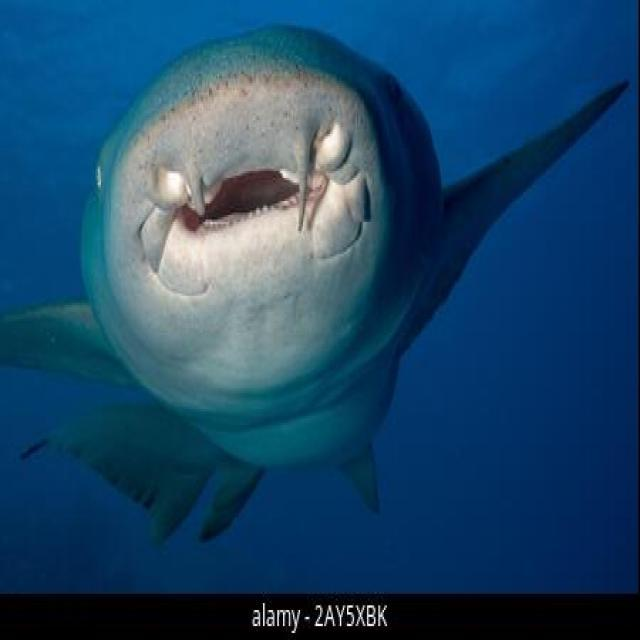Shark: (1, 0, 638, 559)
